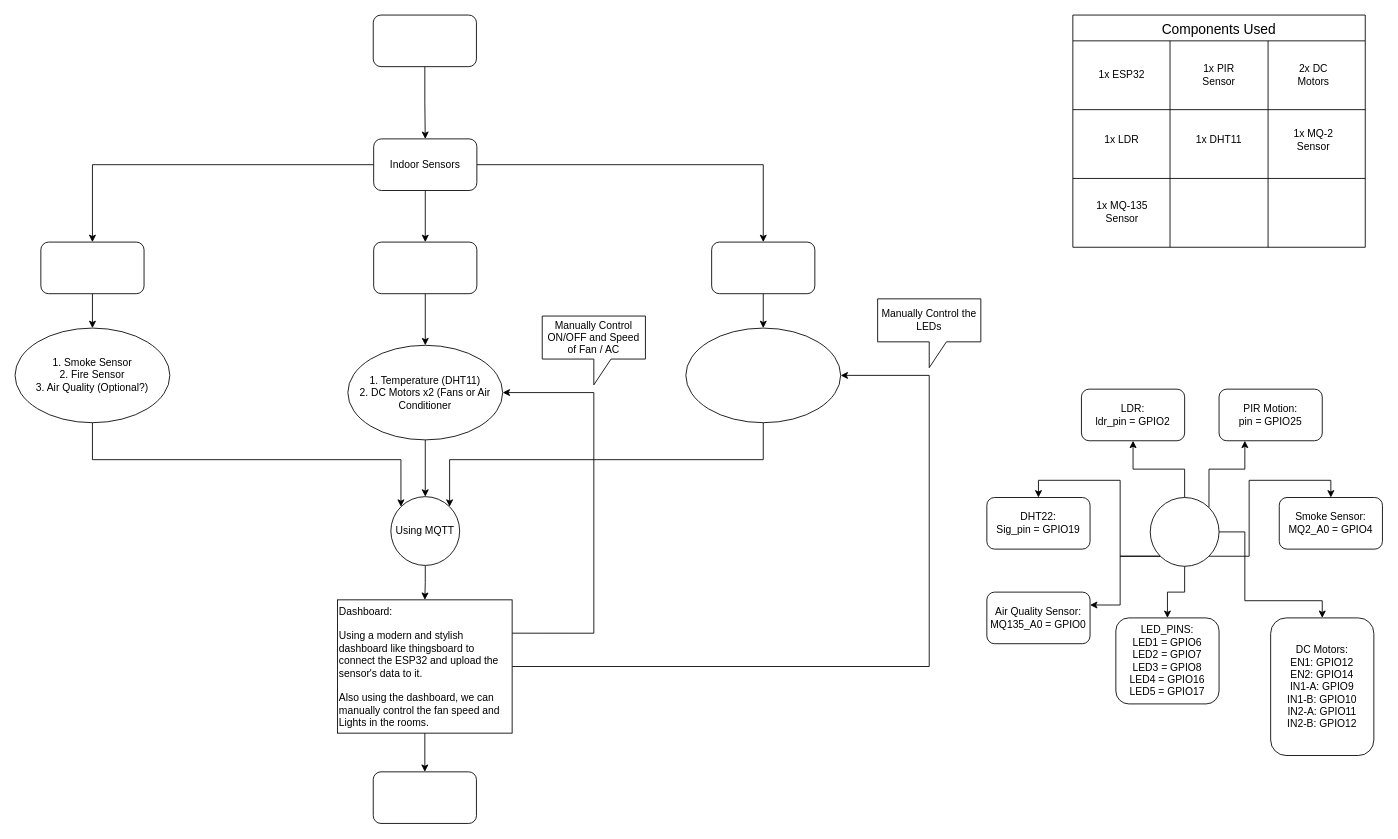
This 1398x839 diagram has some shape labels left out. The shapes that lost their labels are listed below. From the top down, each one's centre as x and y in pixels, then its label:
the point at 424,40: ESP32 Microcontroller
the point at 92,267: Kitchen
the point at 425,267: Reception Hall
the point at 763,267: Bedrooms
the point at 763,375: 1. LDR (Light Intensity) 2. PIR (For Motion Detection)
the point at 1184,531: Pins Connections
the point at 424,797: Integrate with voice recognition
